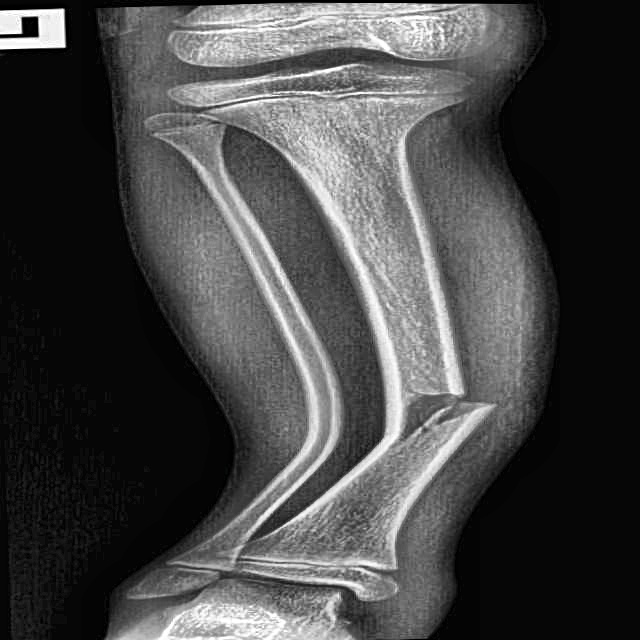Oblique Displaced: (342, 370, 547, 465)
